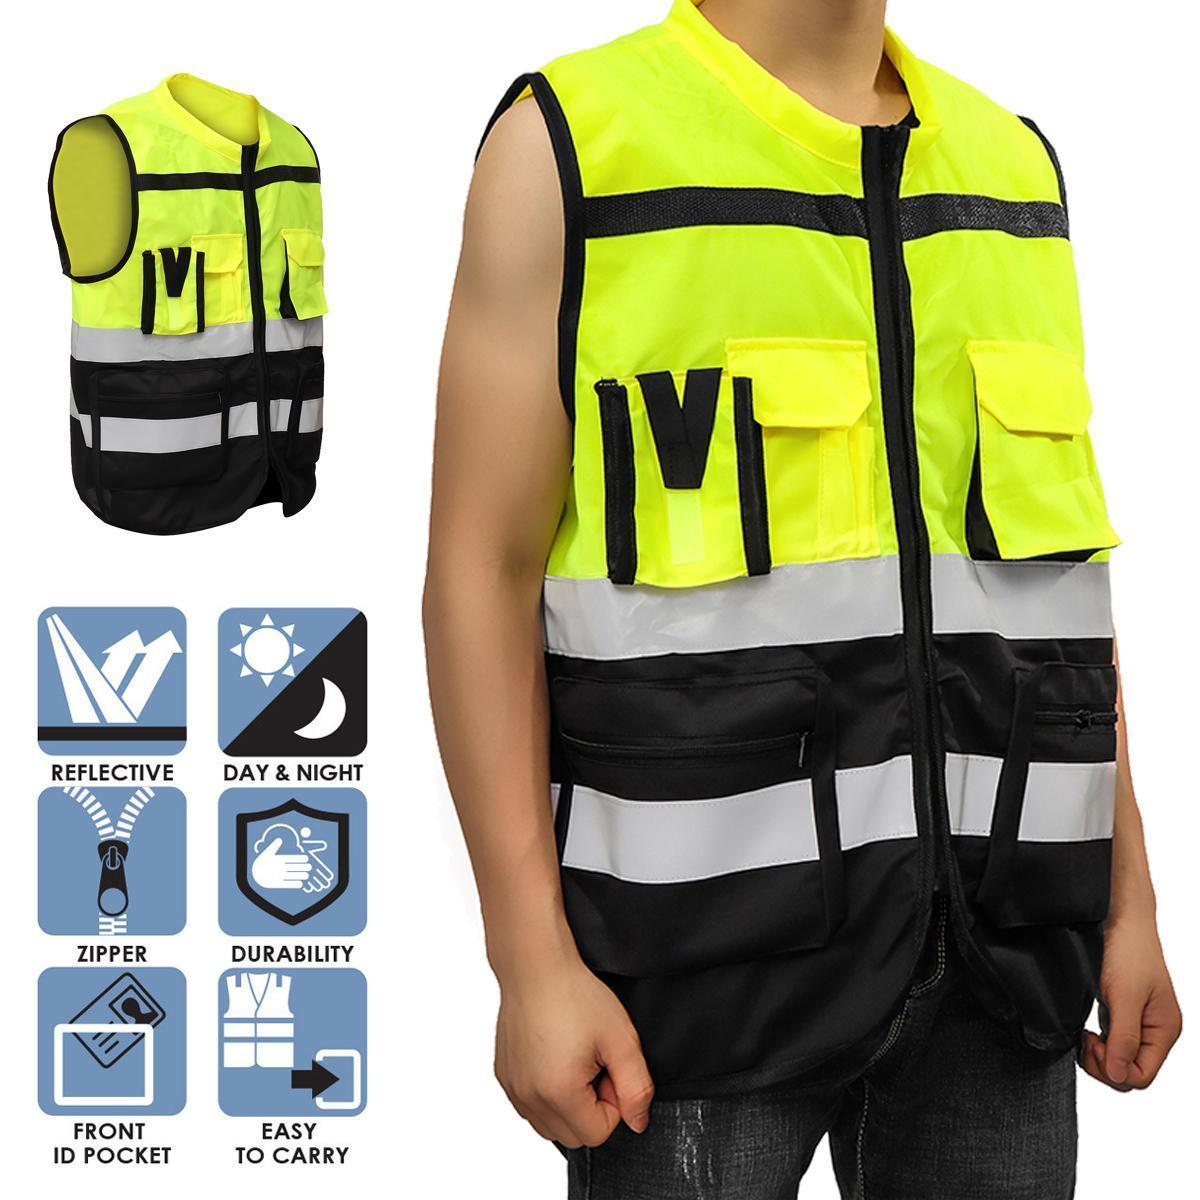vest: (471, 0, 1120, 1084), (45, 73, 325, 537)
